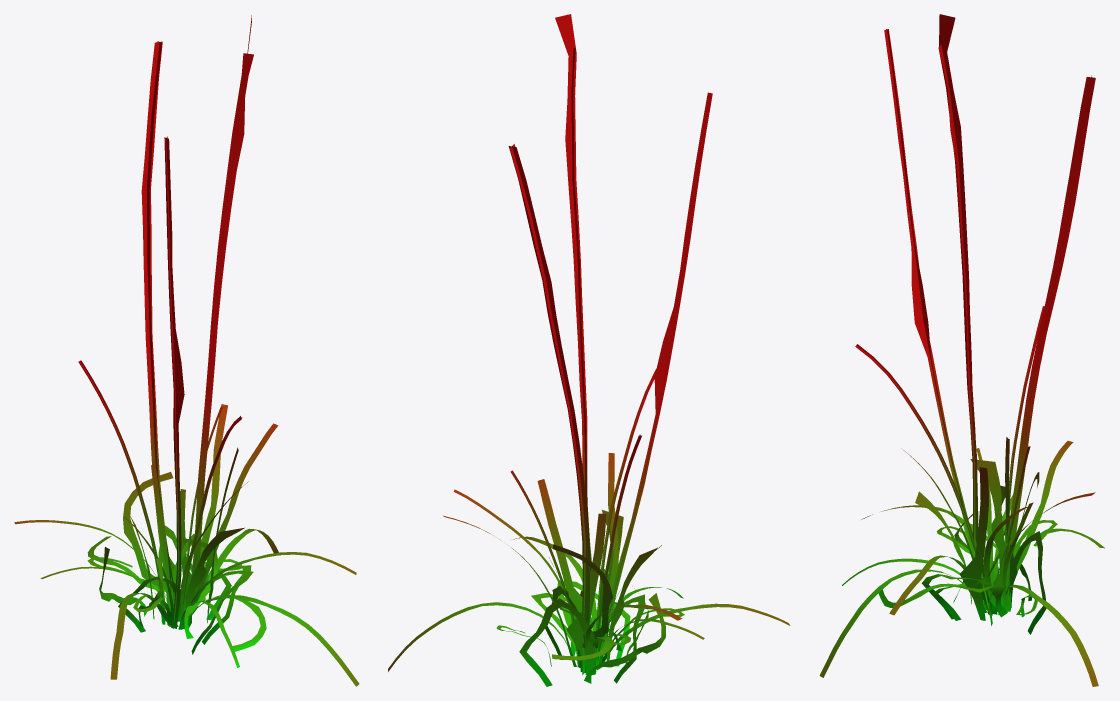
The model's file is smdrailr_Var6_LOD0.fbx.
3 renders of one model, left to right at view 1: azimuth 30°, elevation 25°; view 2: azimuth 150°, elevation 25°; view 3: azimuth 270°, elevation 25°, orthographic.
Visible parts, largest first — view 1: _db84_Var6_LOD0; view 2: _db84_Var6_LOD0; view 3: _db84_Var6_LOD0.
Part boxes in pixels (box(x1,y1,x2,y2)): _db84_Var6_LOD0: box(14, 15, 359, 686); _db84_Var6_LOD0: box(388, 14, 790, 686); _db84_Var6_LOD0: box(819, 14, 1104, 686).
Bounding box in the file's own units: 23.19 × 49.49 × 20.05.
